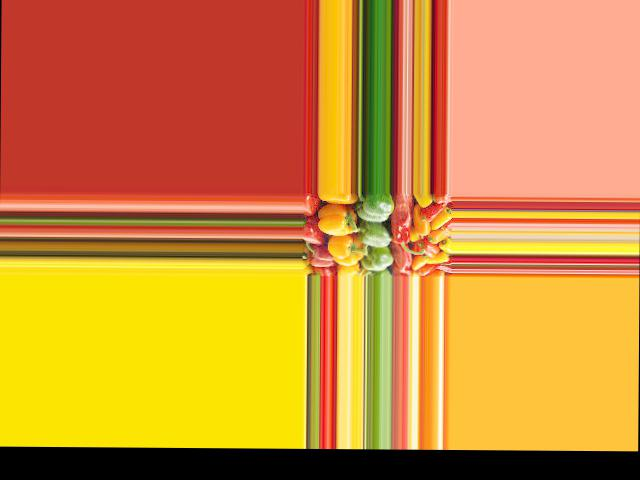bell_pepper: (420, 200, 447, 222)
